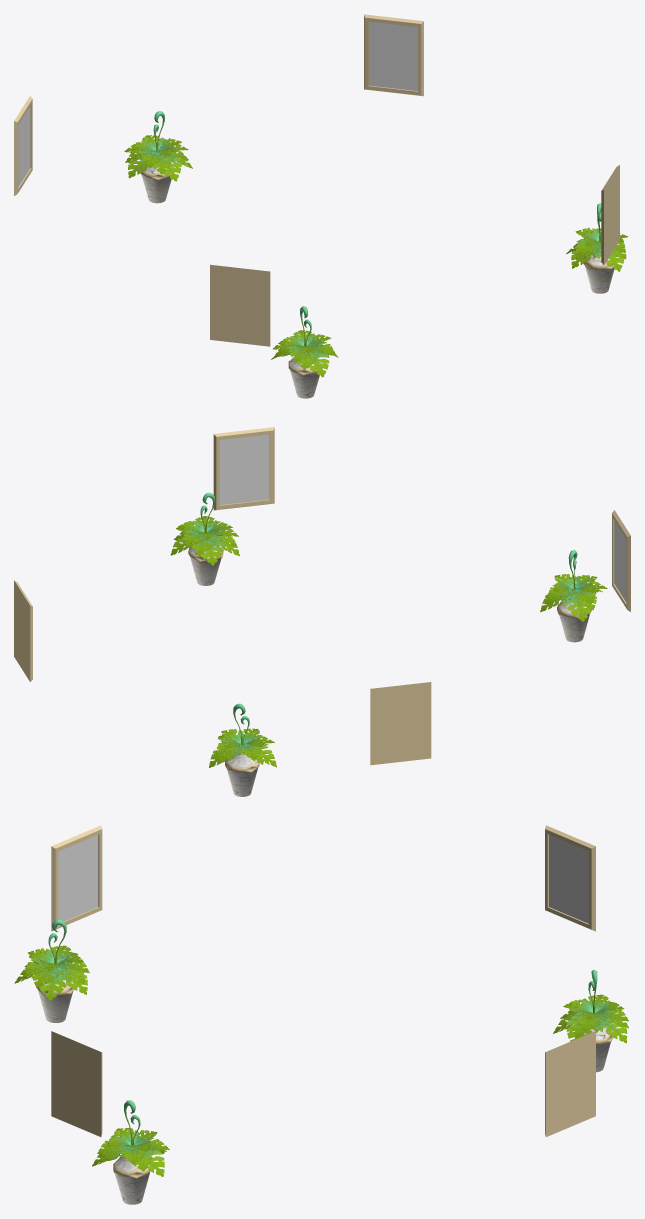
The model's file is FramesAndPlants.fbx.
3 views of the same model, one above another, from view 1: azimuth 30°, elevation 25°; view 2: azimuth 150°, elevation 25°; view 3: azimuth 270°, elevation 25° (orthographic). The views are drawn at different scales.
Parts seen in each view (by area): view 1: PictureFrames.001, PictureFrames.003, Vases.003, Vases.002, Vases.001, PictureFrames.004, PictureFrames.002; view 2: PictureFrames.002, PictureFrames.004, Vases.001, Vases.003, Vases.002, PictureFrames.003, PictureFrames.001; view 3: PictureFrames.004, PictureFrames.001, PictureFrames.002, PictureFrames.003, Vases.001, Vases.002, Vases.003.
Part boxes in pixels (x1,y1,x2,y2): PictureFrames.001: (210, 264, 270, 346); PictureFrames.003: (364, 14, 423, 96); Vases.003: (124, 111, 192, 203); Vases.002: (271, 306, 338, 398); Vases.001: (566, 203, 628, 293); PictureFrames.004: (601, 165, 619, 264); PictureFrames.002: (14, 96, 32, 195); PictureFrames.002: (370, 682, 431, 765); PictureFrames.004: (213, 427, 274, 510); Vases.001: (170, 492, 239, 585); Vases.003: (209, 703, 276, 796); Vases.002: (540, 550, 607, 642); PictureFrames.003: (14, 580, 32, 681); PictureFrames.001: (612, 510, 630, 611); PictureFrames.004: (51, 1031, 102, 1136); PictureFrames.001: (51, 825, 102, 931); PictureFrames.002: (545, 825, 595, 931); PictureFrames.003: (545, 1031, 595, 1136); Vases.001: (92, 1100, 169, 1204); Vases.002: (14, 919, 89, 1022); Vases.003: (553, 970, 628, 1072).
Bounding box in the file's own units: 3098 × 917 × 3371.
